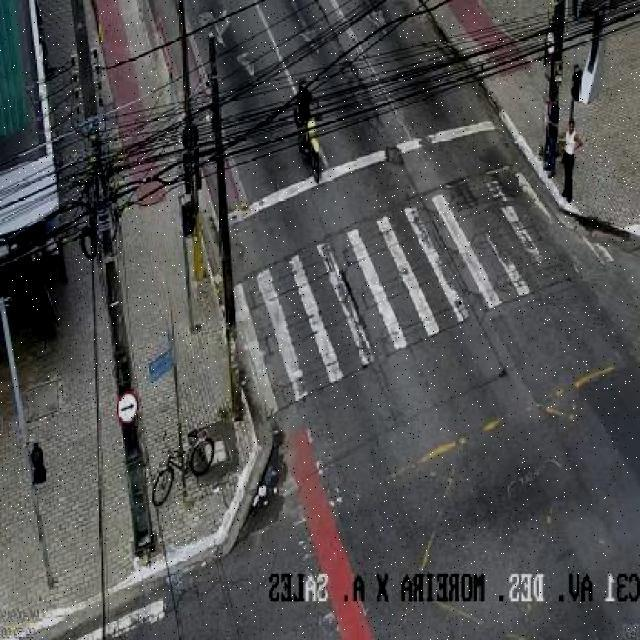Cycle: (289, 65, 332, 192)
